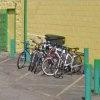Bicycle: (10, 30, 85, 83)
